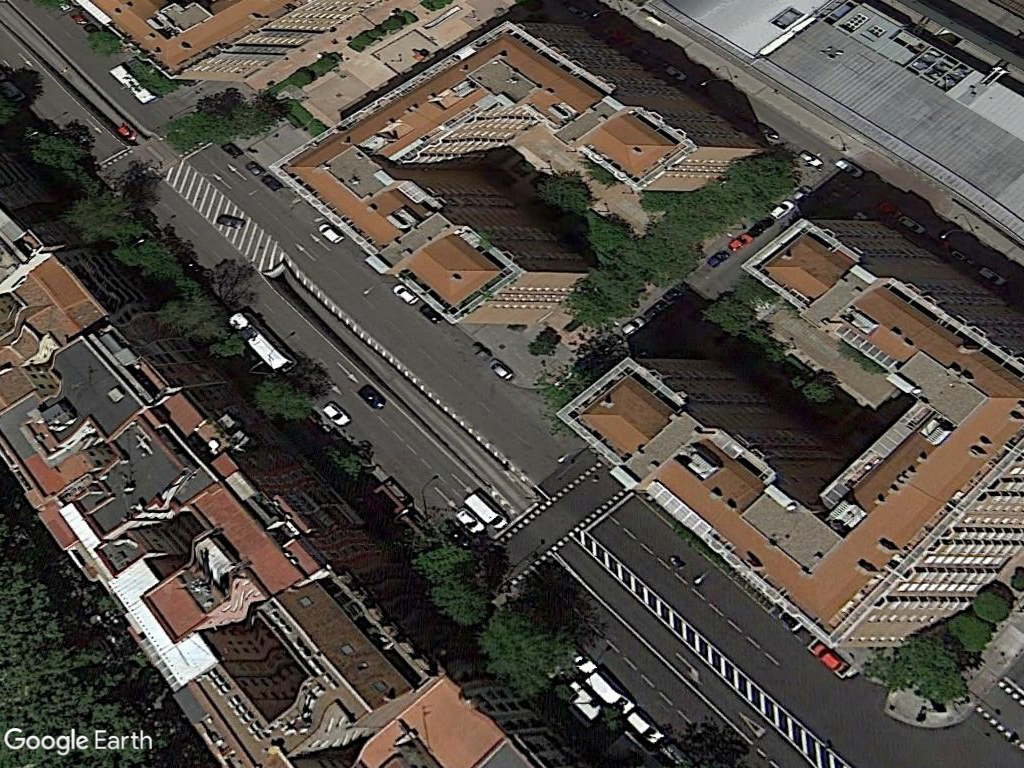bus: (226, 308, 298, 375)
car: (322, 397, 352, 429), (316, 220, 347, 247), (390, 280, 421, 307), (489, 357, 516, 383)
van: (463, 483, 512, 532)
